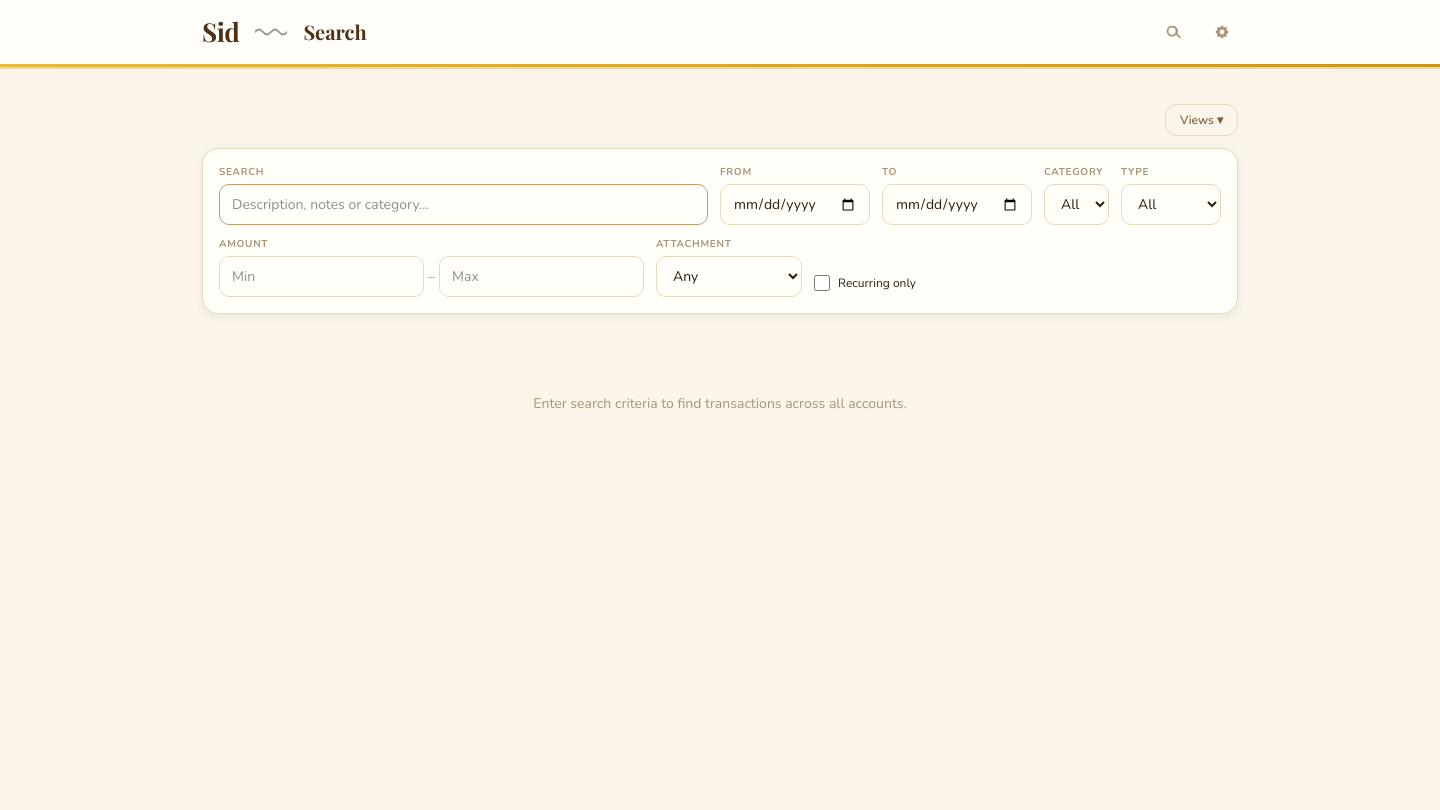
Test: Search page › groups results by account with counts
The width and height of the screenshot is (1440, 810).
Type "hardware" into the field with placeholder "Description, notes or category…" at (464, 204), box [219,184,708,225]
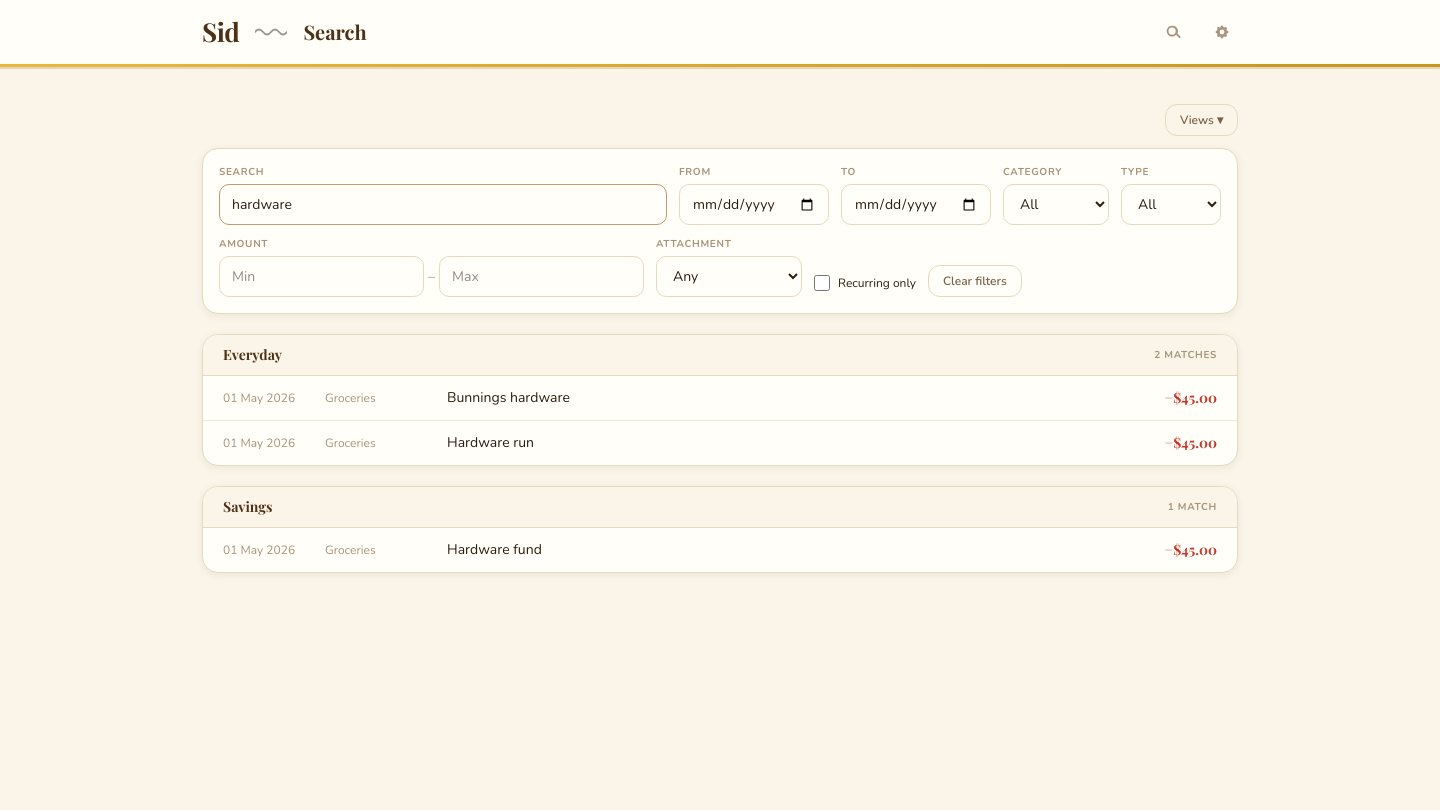
Expected: the link "Everyday" is shown, [223,345,282,365]
Expected: the link "Savings" is shown, [223,497,272,517]
Expected: the text "2 matches" is shown, [1154,348,1217,362]
